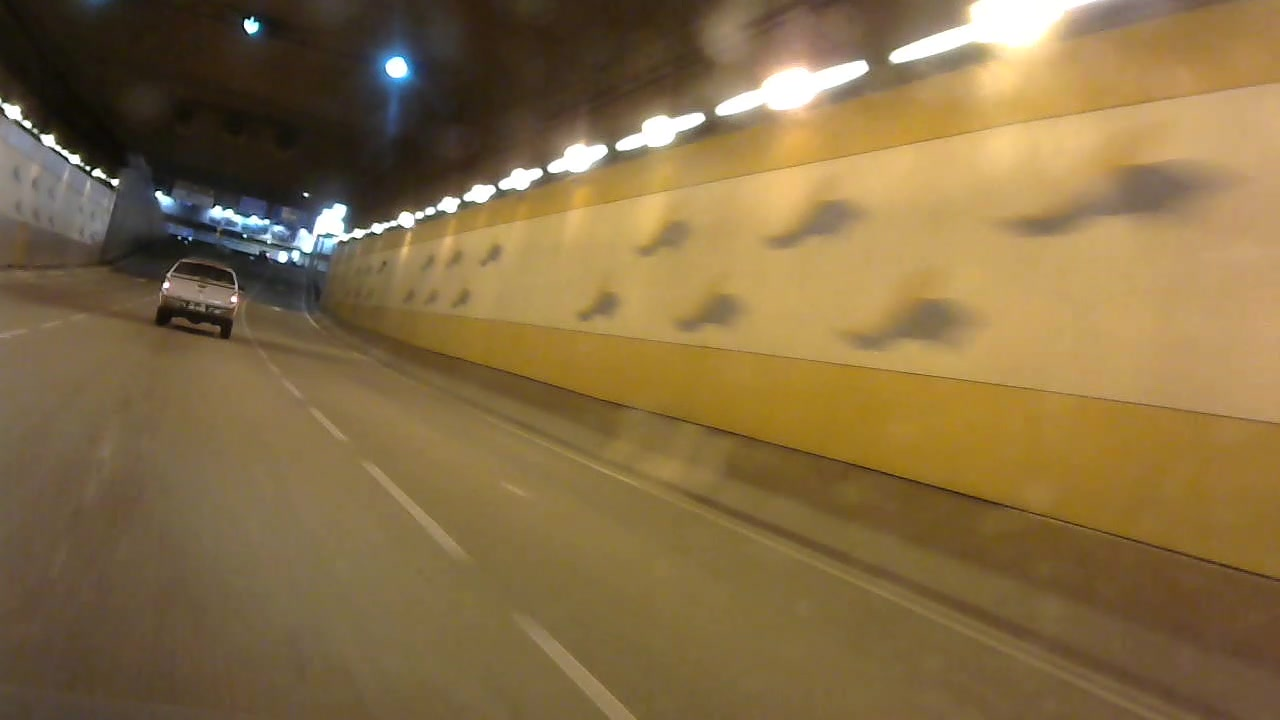Car: (153, 251, 244, 345)
